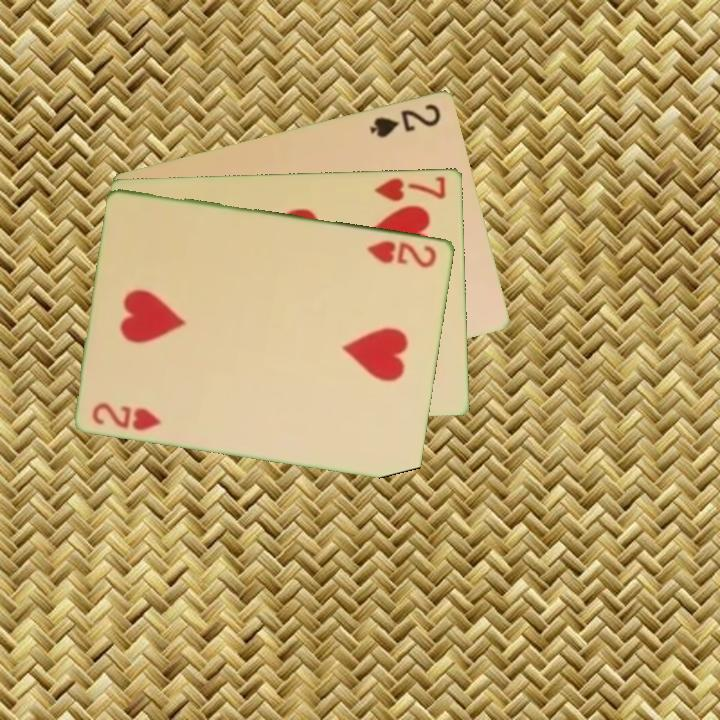2h: (363, 236, 440, 271), (89, 398, 164, 433)
2s: (366, 99, 444, 140)
7h: (371, 172, 449, 203)
